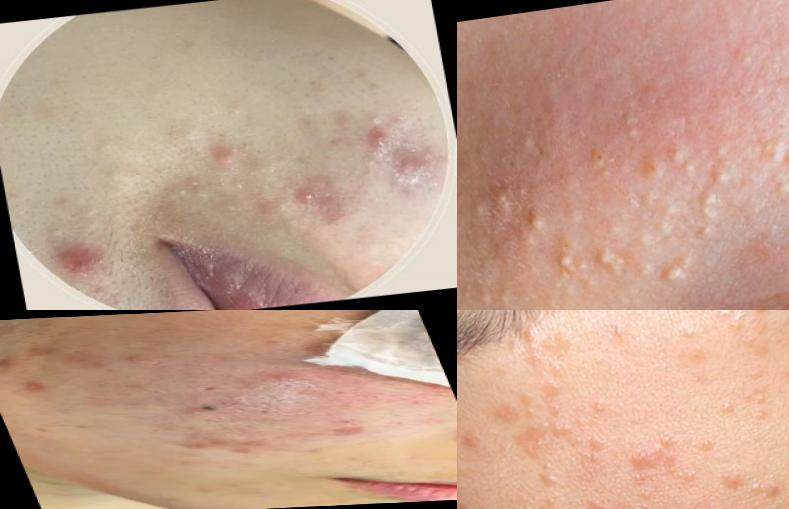acne_scars: (166, 435, 297, 462), (4, 379, 71, 397), (308, 425, 376, 442)
flat_wart: (458, 397, 523, 473), (508, 316, 580, 372), (654, 421, 708, 491), (709, 385, 789, 432), (501, 418, 580, 464), (712, 455, 758, 492), (535, 459, 568, 499), (707, 495, 789, 509), (584, 430, 614, 457)
milium: (654, 132, 742, 193), (628, 199, 699, 251), (464, 187, 521, 232), (623, 255, 677, 297), (657, 248, 709, 287), (517, 207, 565, 249), (592, 246, 635, 290), (692, 191, 732, 233), (550, 243, 590, 282), (755, 132, 789, 177), (688, 221, 727, 251), (516, 130, 549, 160), (770, 164, 789, 205)
papular: (51, 241, 116, 282), (311, 192, 359, 234), (250, 369, 320, 389), (212, 140, 257, 171), (400, 150, 435, 185), (158, 404, 221, 422), (294, 182, 324, 213)
whitehead: (161, 171, 217, 204), (647, 364, 692, 398), (358, 123, 403, 156), (79, 196, 119, 232), (689, 429, 727, 465), (711, 385, 742, 418), (605, 319, 637, 350), (585, 392, 614, 420), (97, 134, 124, 161), (48, 219, 76, 240), (630, 468, 652, 491), (679, 321, 701, 343), (716, 497, 750, 509), (588, 498, 617, 509), (554, 311, 592, 318)
